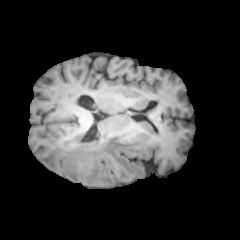glioma: (40, 114, 141, 185)
